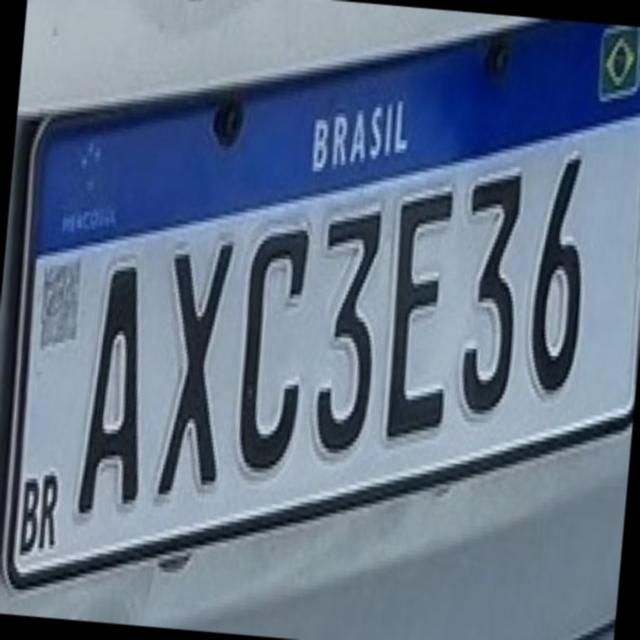3: (296, 184, 393, 464), (438, 149, 536, 426)
6: (513, 138, 604, 401)
A: (60, 241, 166, 522)
C: (217, 207, 320, 480)
E: (372, 169, 470, 446)
X: (140, 214, 244, 498)
